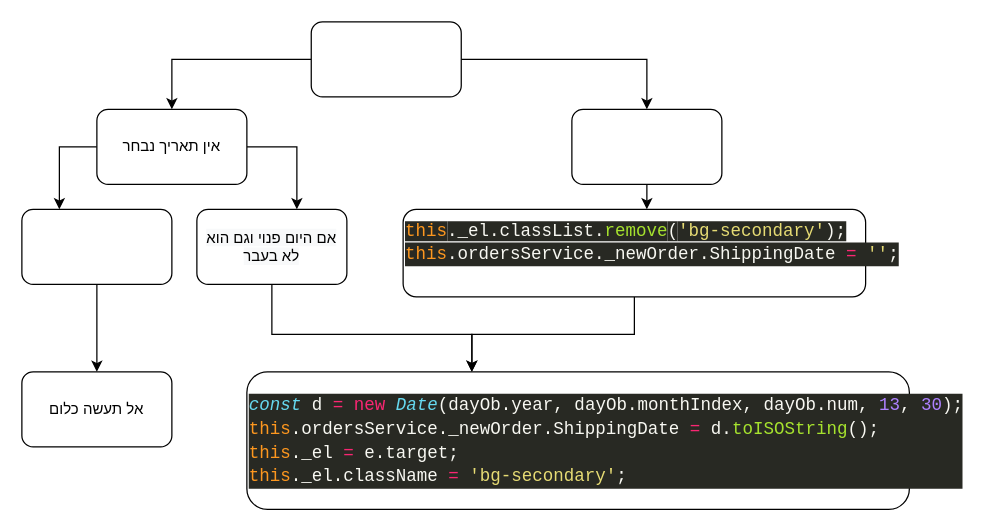
The diagram is 985 pixels wide and 531 high, and some of its shapes have lost their labels. Each missing label, with the box of its shape:
אם היום לא פנוי או שהוא בעבר: (21, 208, 172, 284)
יש תאריך נבחר: (571, 108, 722, 184)
לחיצה על יום: (310, 21, 461, 97)
